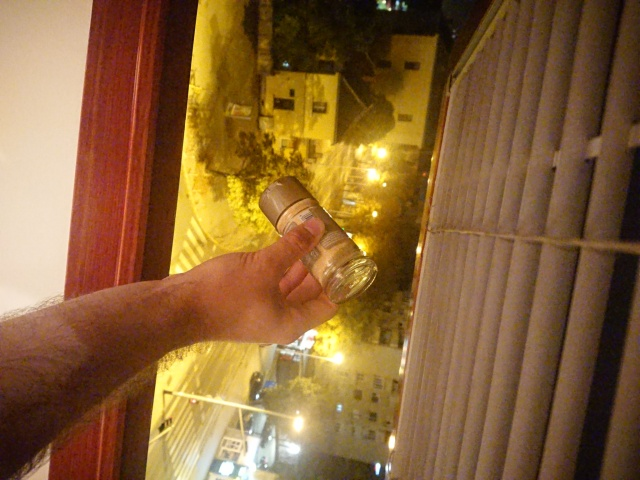Kotanyi Garlic Granules 70g: (257, 174, 381, 306)
